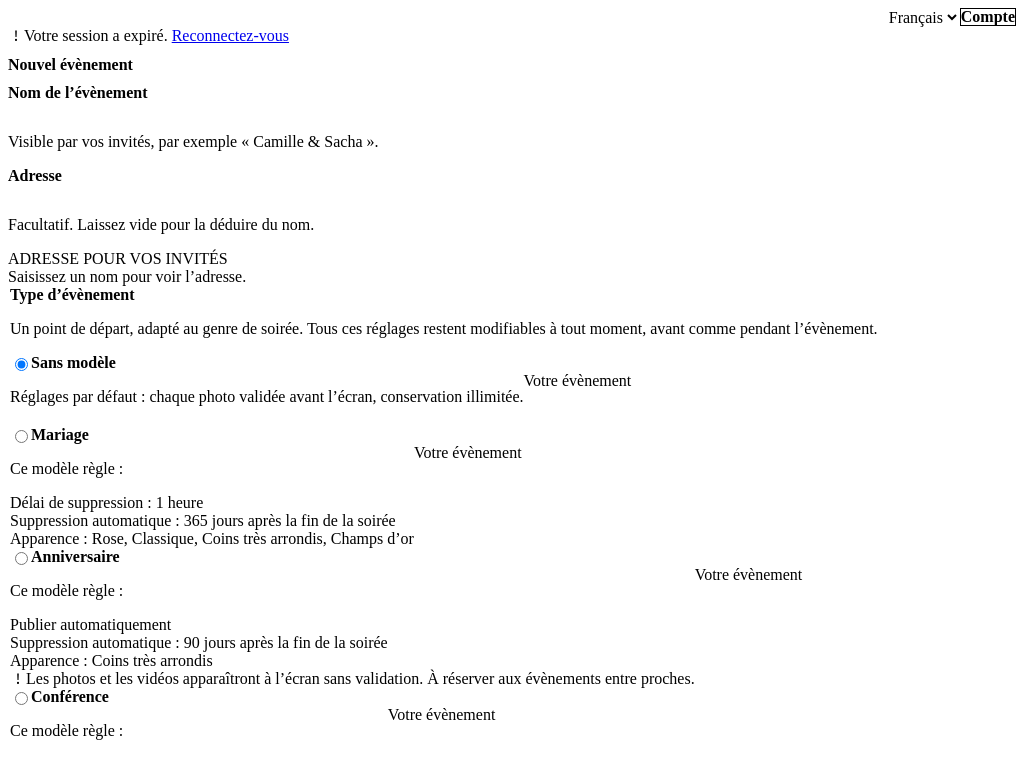
Test: an expired session (H2) › takes the host to sign in and brings them back to the page they were on
Expected: the heading "Nouvel évènement" is shown, [8, 56, 133, 73]
Step 1. Click the link "Reconnectez-vous" → [230, 36], box [172, 27, 289, 44]
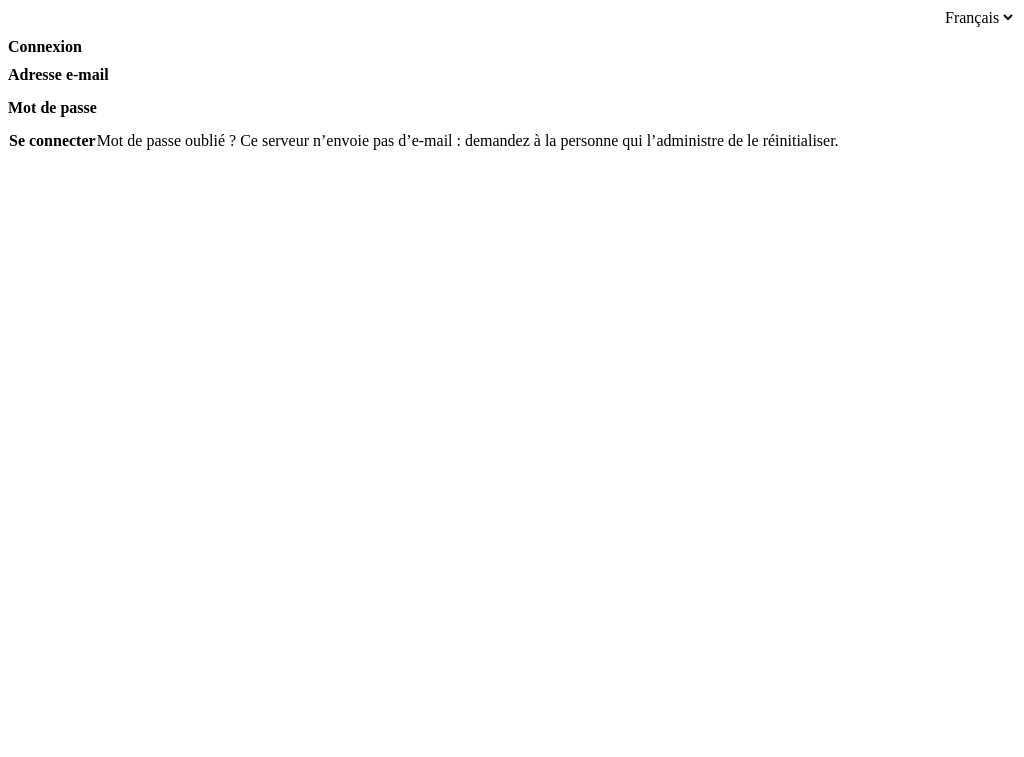
Step 2. Type "organisation@example.com" into the field labelled "Adresse e-mail" → [512, 92], box [8, 84, 1016, 99]
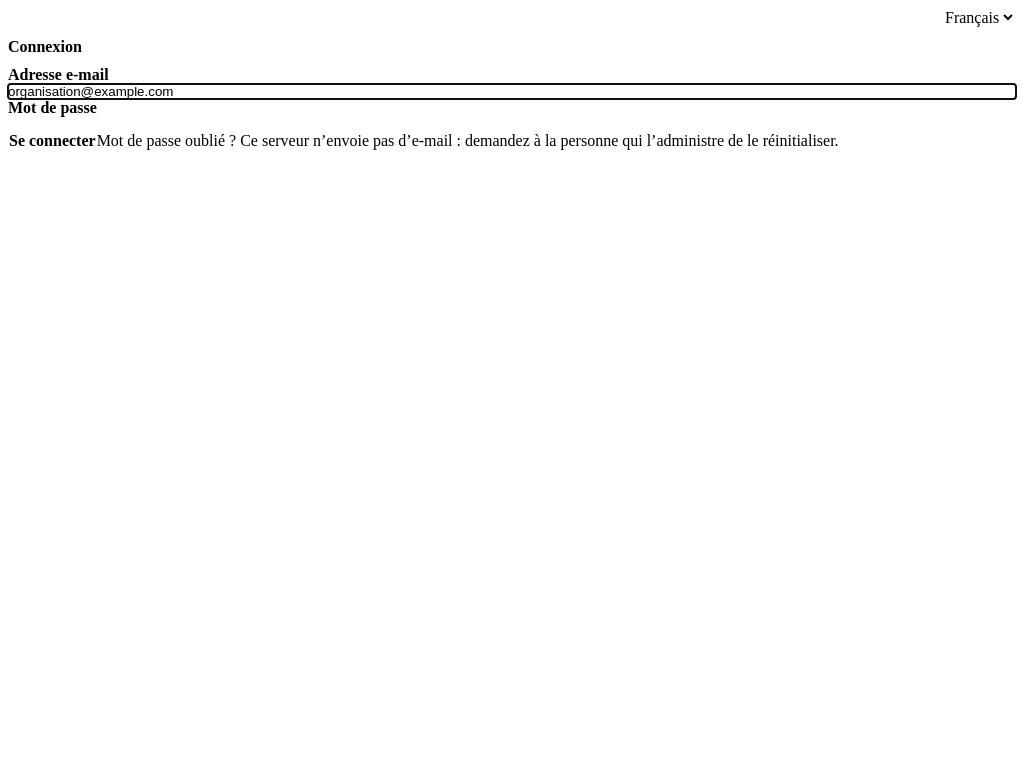
Step 3. Type "un-mot-de-passe-long" into the password field labelled "Mot de passe" → [512, 125], box [8, 117, 1016, 132]
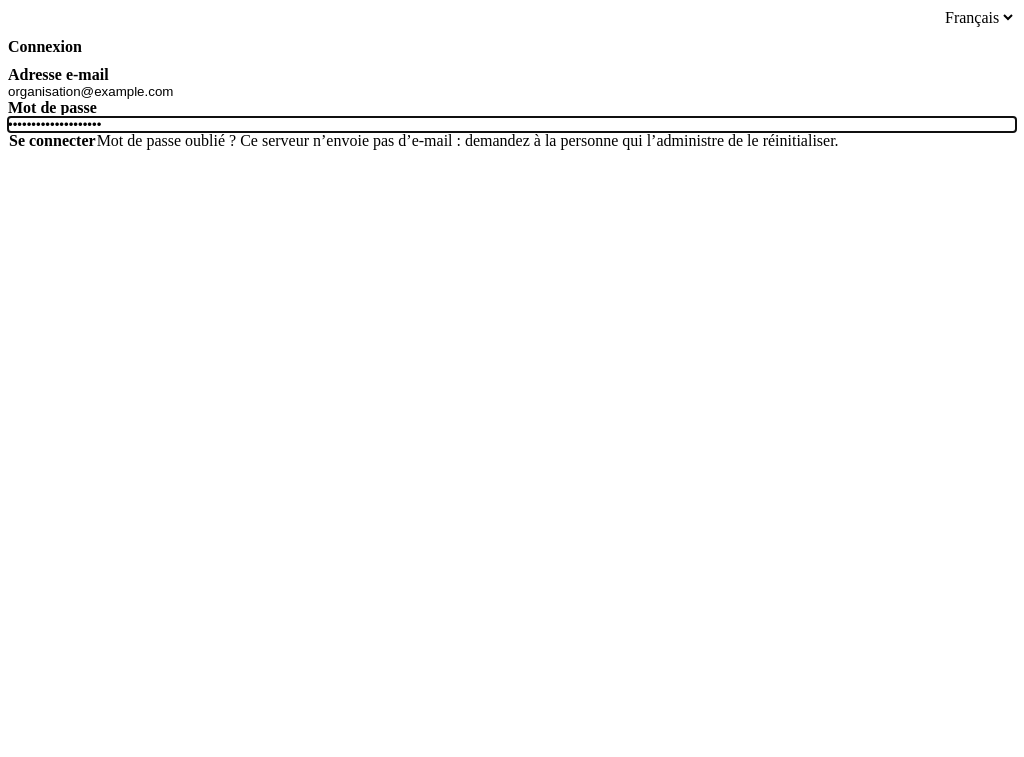
Step 4. Click the button "Se connecter" → [52, 141], box [8, 132, 97, 150]
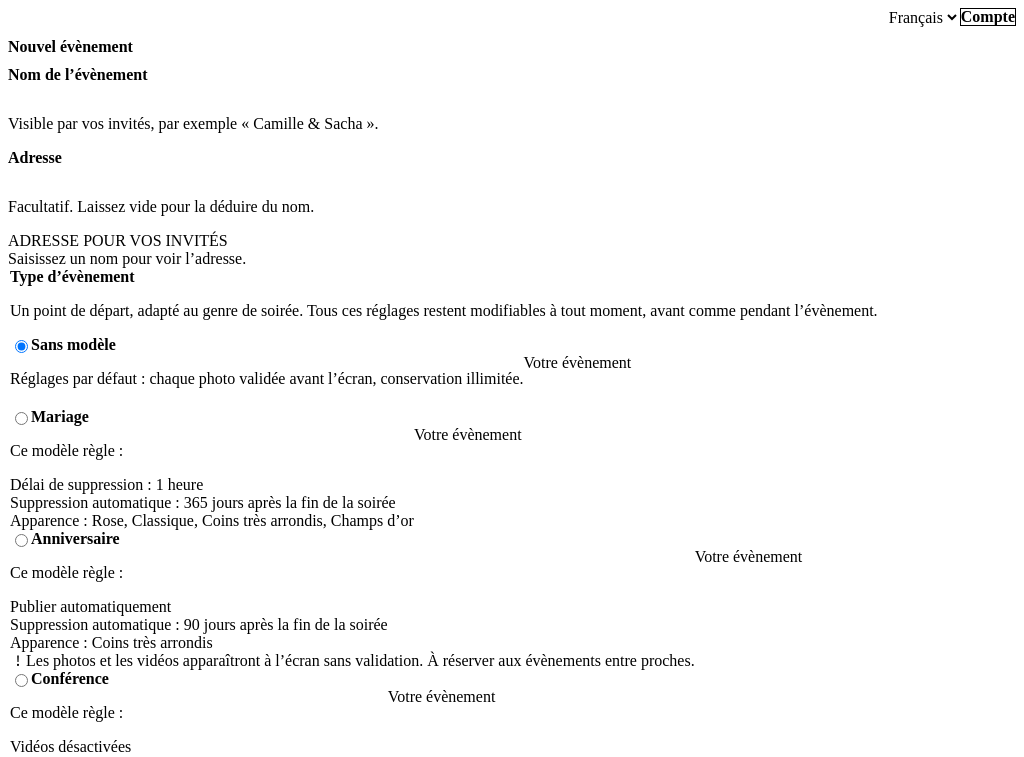
Expected: the text "Votre session a expiré." is not shown
Result: the heading "Nouvel évènement" is shown at [8, 38, 133, 55]
